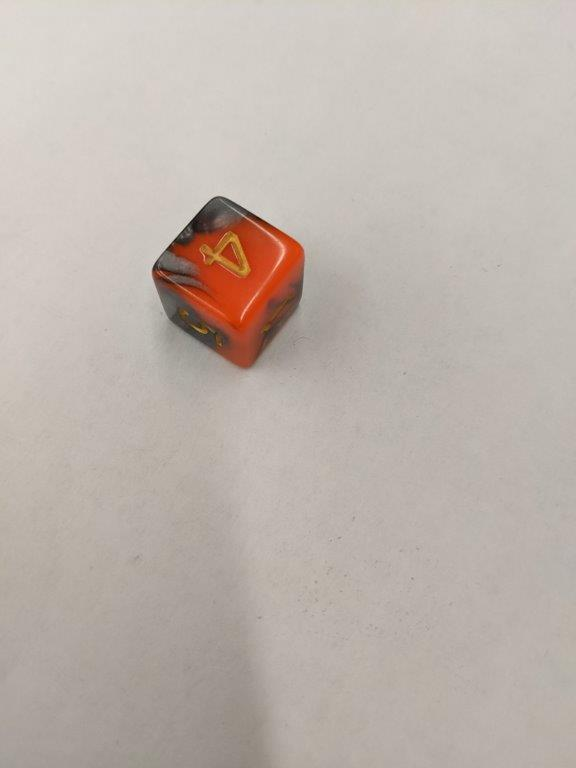d6-4: (151, 197, 306, 371)
